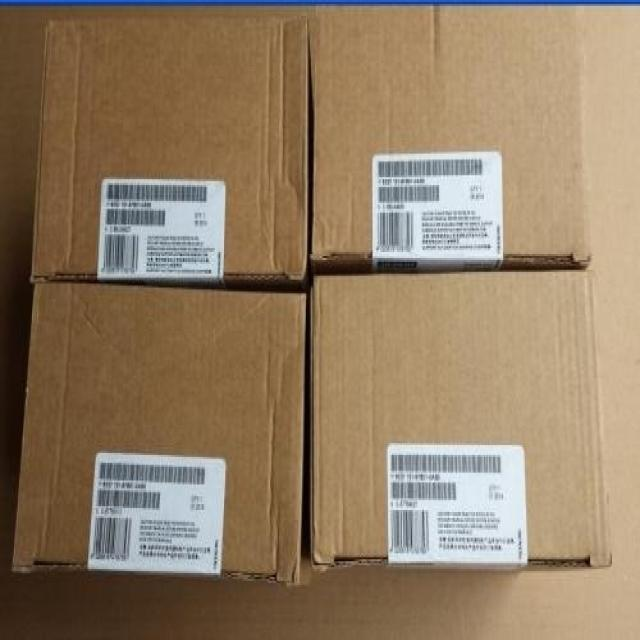Carton: (312, 270, 607, 567), (12, 288, 305, 583), (32, 18, 308, 278), (312, 4, 589, 258)
